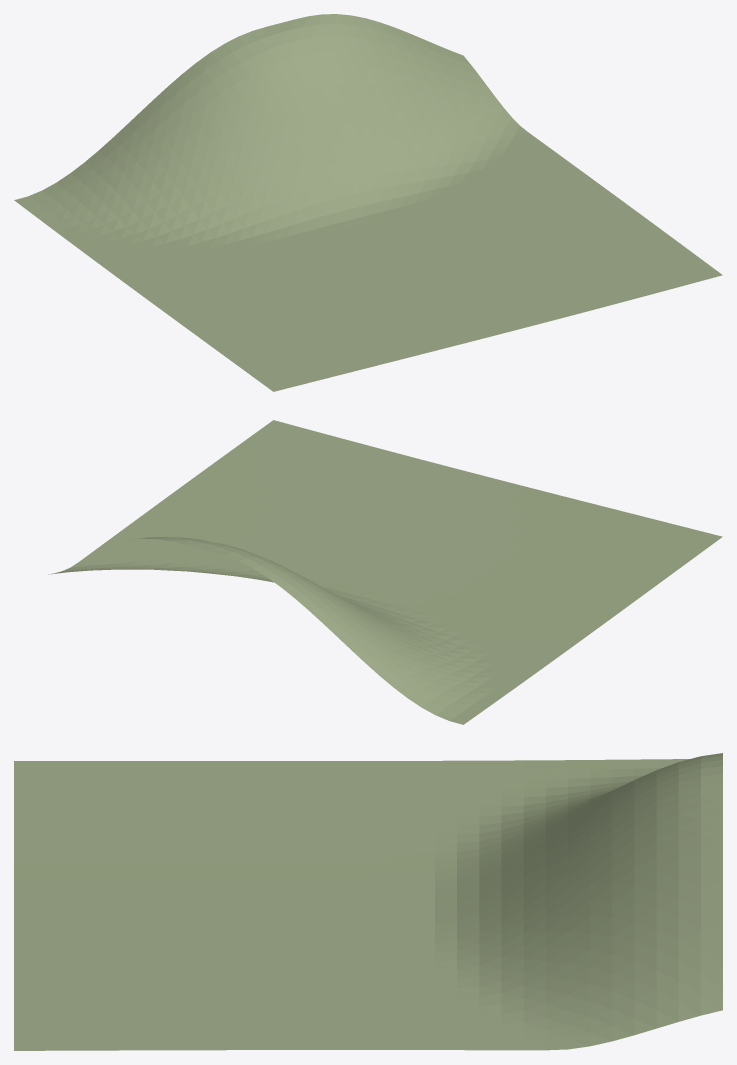
Rendered from desert-20-27.glb.
3 renders of one model, top to bottom at view 1: azimuth 30°, elevation 25°; view 2: azimuth 150°, elevation 25°; view 3: azimuth 270°, elevation 25°, orthographic. The views are drawn at different scales.
Visible parts, largest first — view 1: desert-20-27; view 2: desert-20-27; view 3: desert-20-27.
Part boxes in pixels (x1=…): desert-20-27: x1=14, y1=14, x2=722, y2=391; desert-20-27: x1=48, y1=420, x2=722, y2=724; desert-20-27: x1=14, y1=753, x2=722, y2=1050.
Size of the model in its own units: 512 by 124 by 512.
